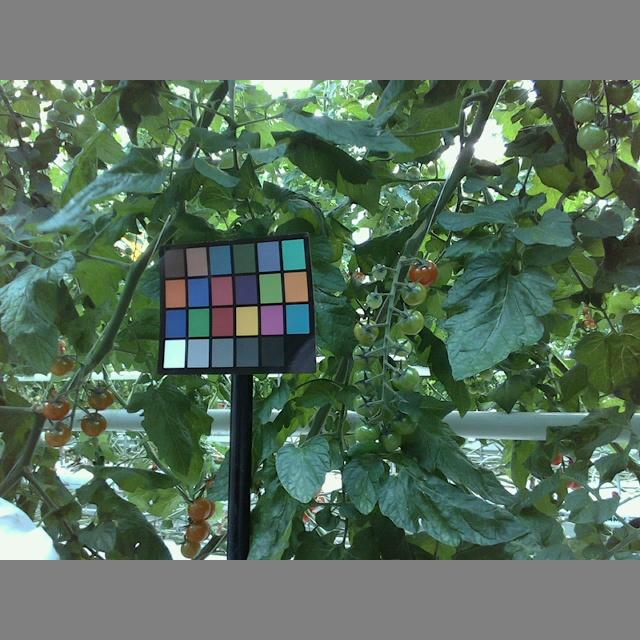green: (575, 119, 609, 152), (570, 96, 601, 126), (394, 309, 425, 336), (604, 81, 635, 108), (351, 318, 380, 346), (388, 410, 421, 434), (390, 364, 421, 389), (352, 341, 380, 368), (400, 281, 429, 307), (349, 368, 378, 392), (351, 393, 379, 416), (354, 423, 381, 446), (379, 429, 403, 451), (390, 336, 412, 357), (363, 290, 383, 310), (369, 264, 389, 281)
pink: (407, 258, 439, 288), (41, 395, 70, 421), (43, 422, 72, 447), (186, 496, 213, 521), (183, 519, 211, 543), (85, 387, 115, 409), (80, 413, 108, 436), (47, 354, 74, 377), (178, 537, 203, 560)
